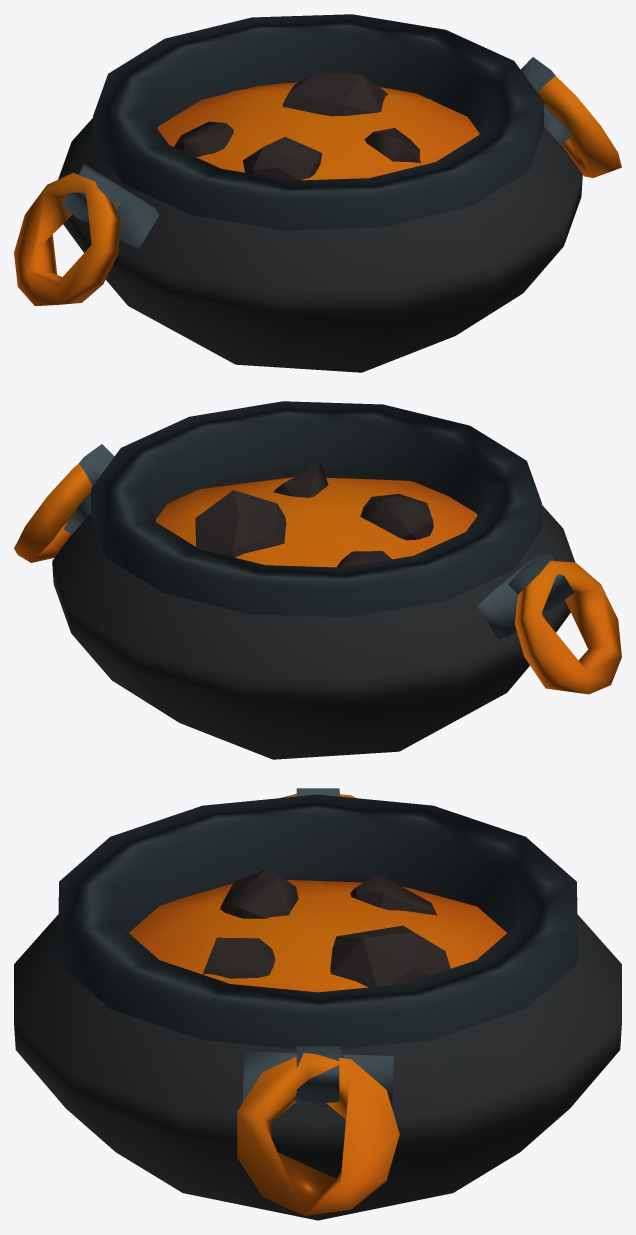
The model's file is hl_brazier_low.glb.
3 renders of one model, top to bottom at view 1: azimuth 30°, elevation 25°; view 2: azimuth 150°, elevation 25°; view 3: azimuth 270°, elevation 25°, orthographic. The views are drawn at different scales.
Visible parts, largest first — view 1: hl_brazier_low; view 2: hl_brazier_low; view 3: hl_brazier_low.
Part boxes in pixels (<box>): hl_brazier_low: <box>14,14,621,372</box>; hl_brazier_low: <box>14,401,621,759</box>; hl_brazier_low: <box>14,788,621,1220</box>.
Size of the model in its own units: 2.58 by 0.8938 by 2.
